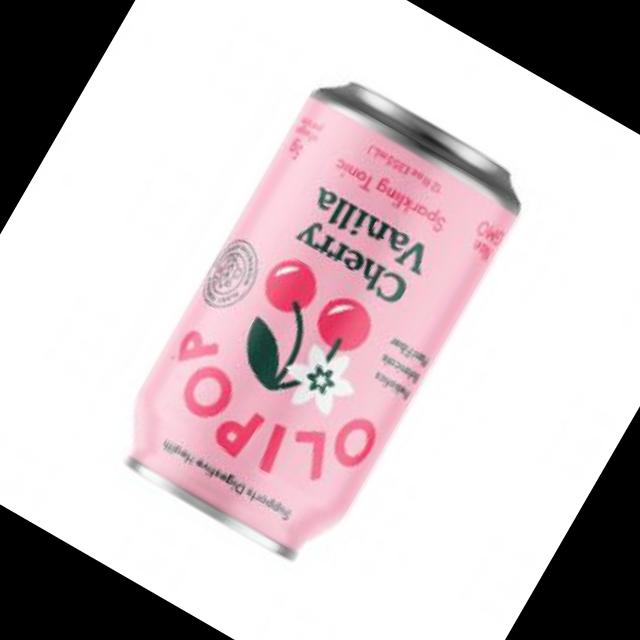Kaleng: (99, 64, 540, 581)
